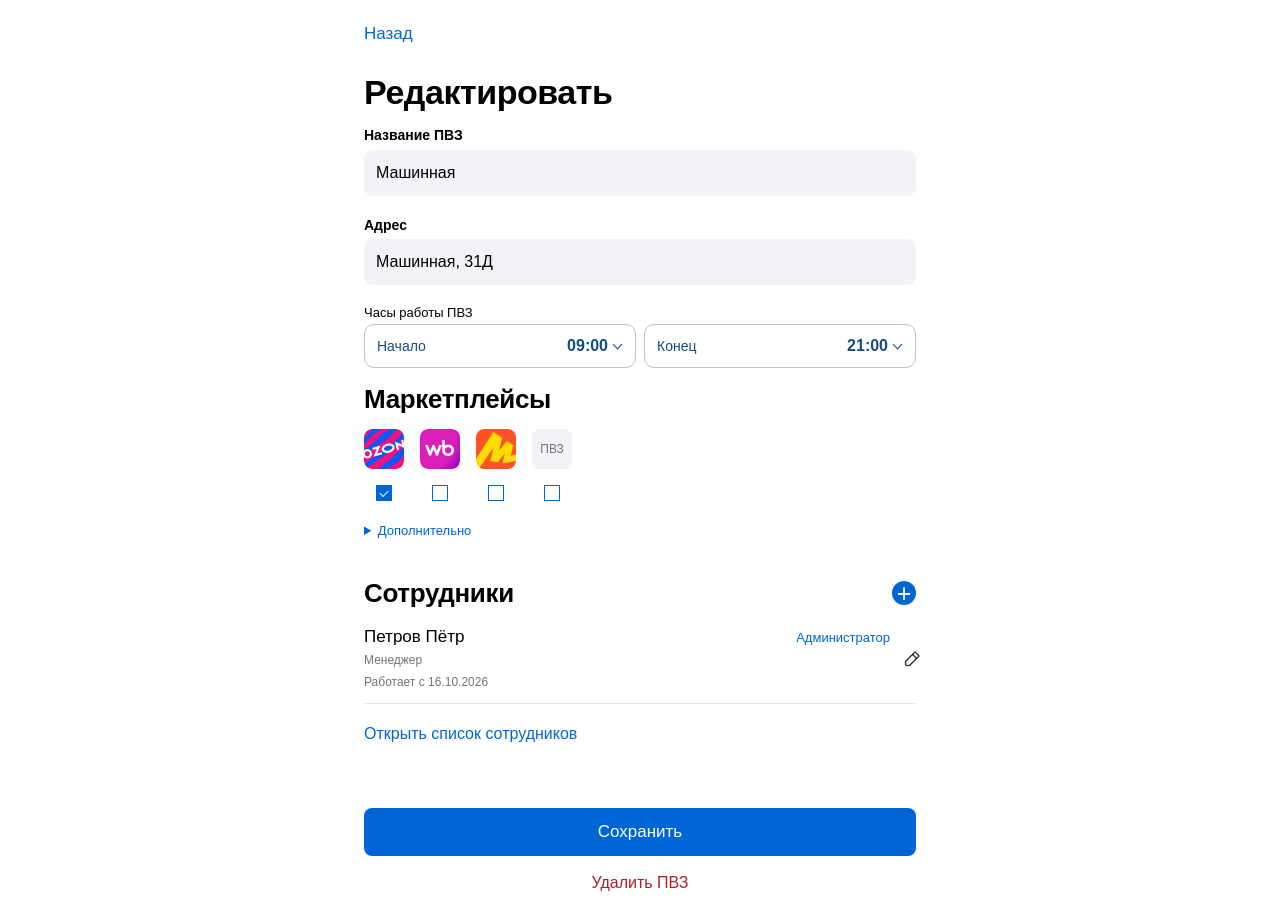
Test: удаление требует подтверждения, отмена и Escape не делают запрос
Check: the field showing "Машинная" is shown, box [364,150,916,196]
Click the button "Удалить ПВЗ": (640, 878) [364,856,916,899]
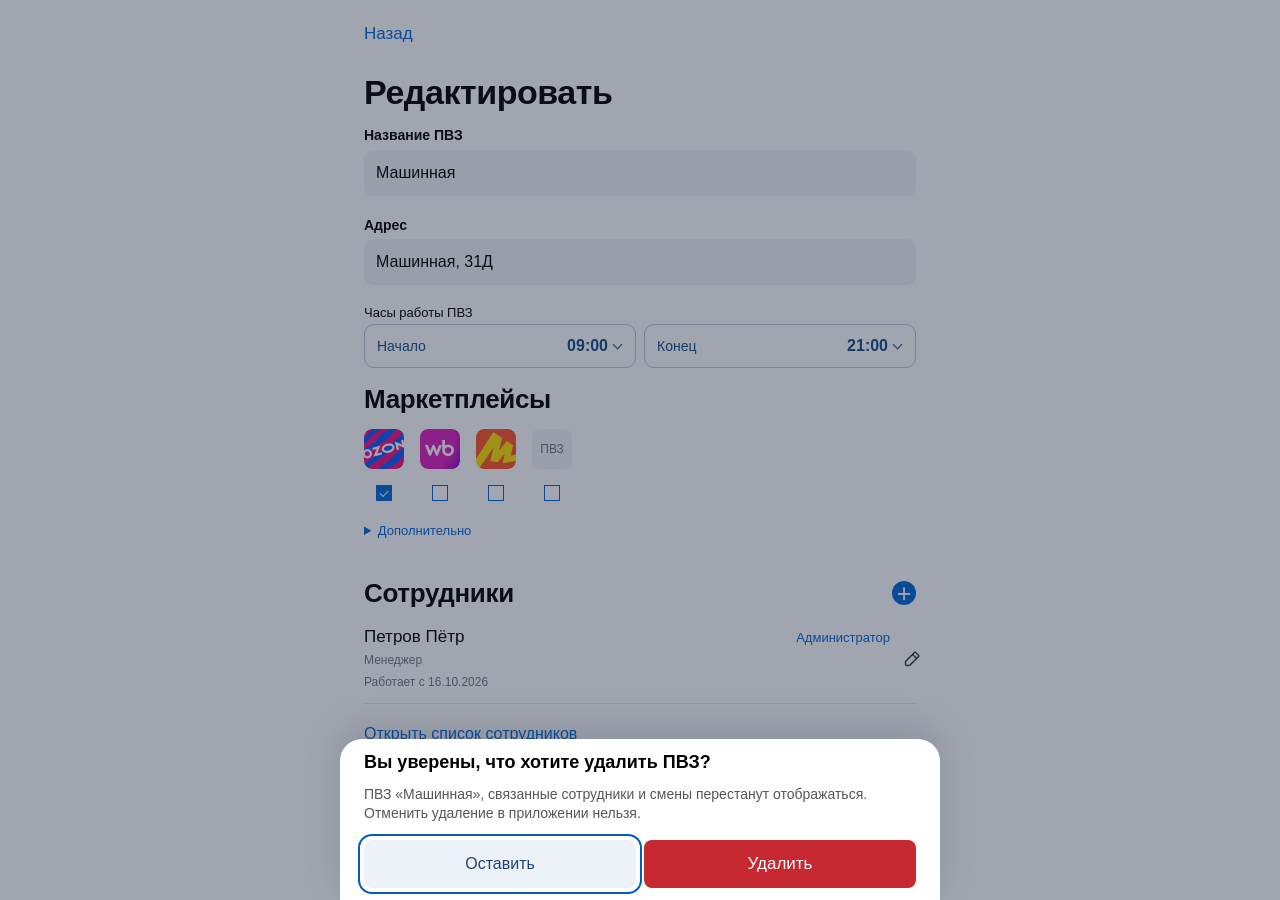
Check: the dialog is shown, box [340,739,940,899]
Click the button "Оставить": (500, 864) [364,840,636,888]
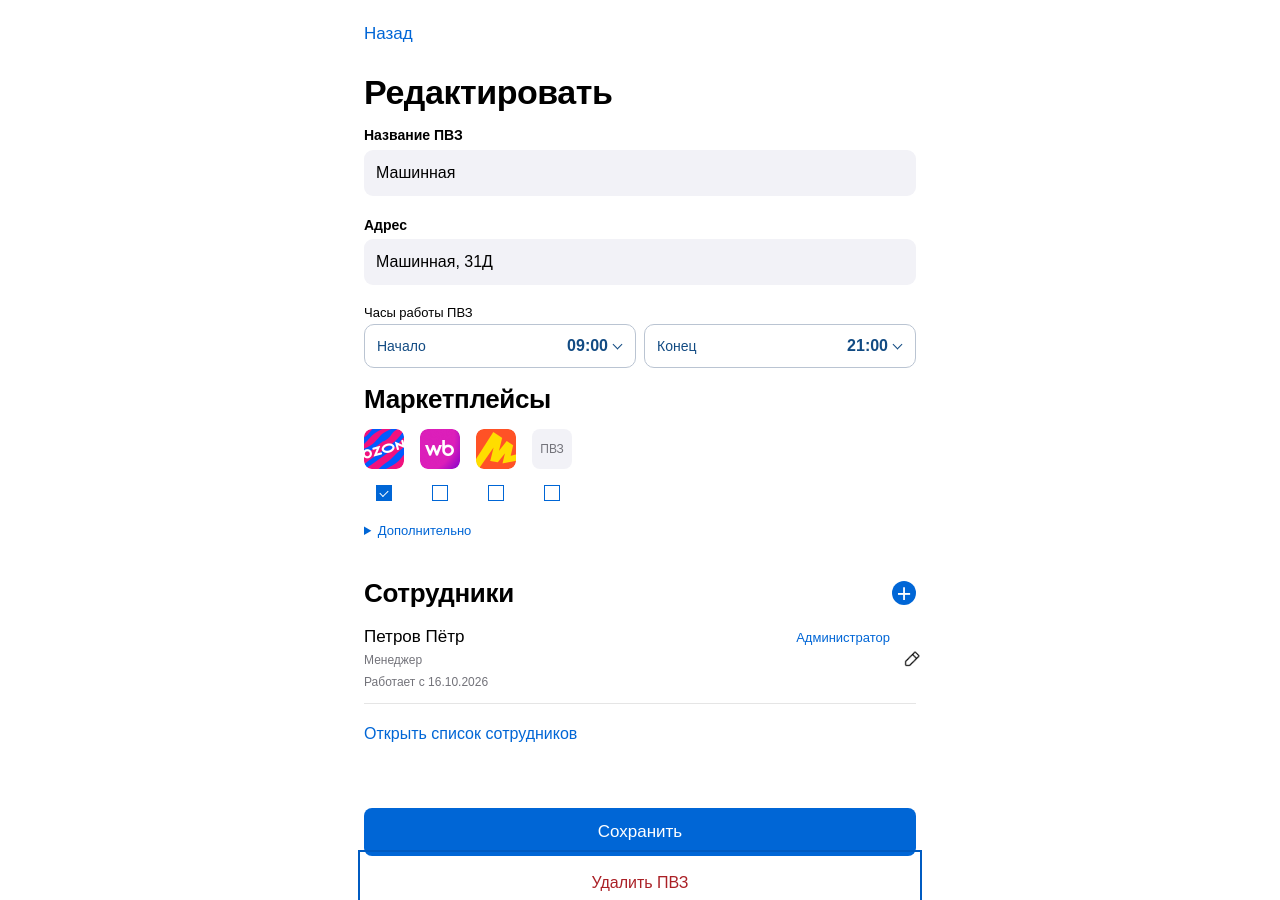
Click the button "Удалить ПВЗ": (640, 878) [364,856,916,899]
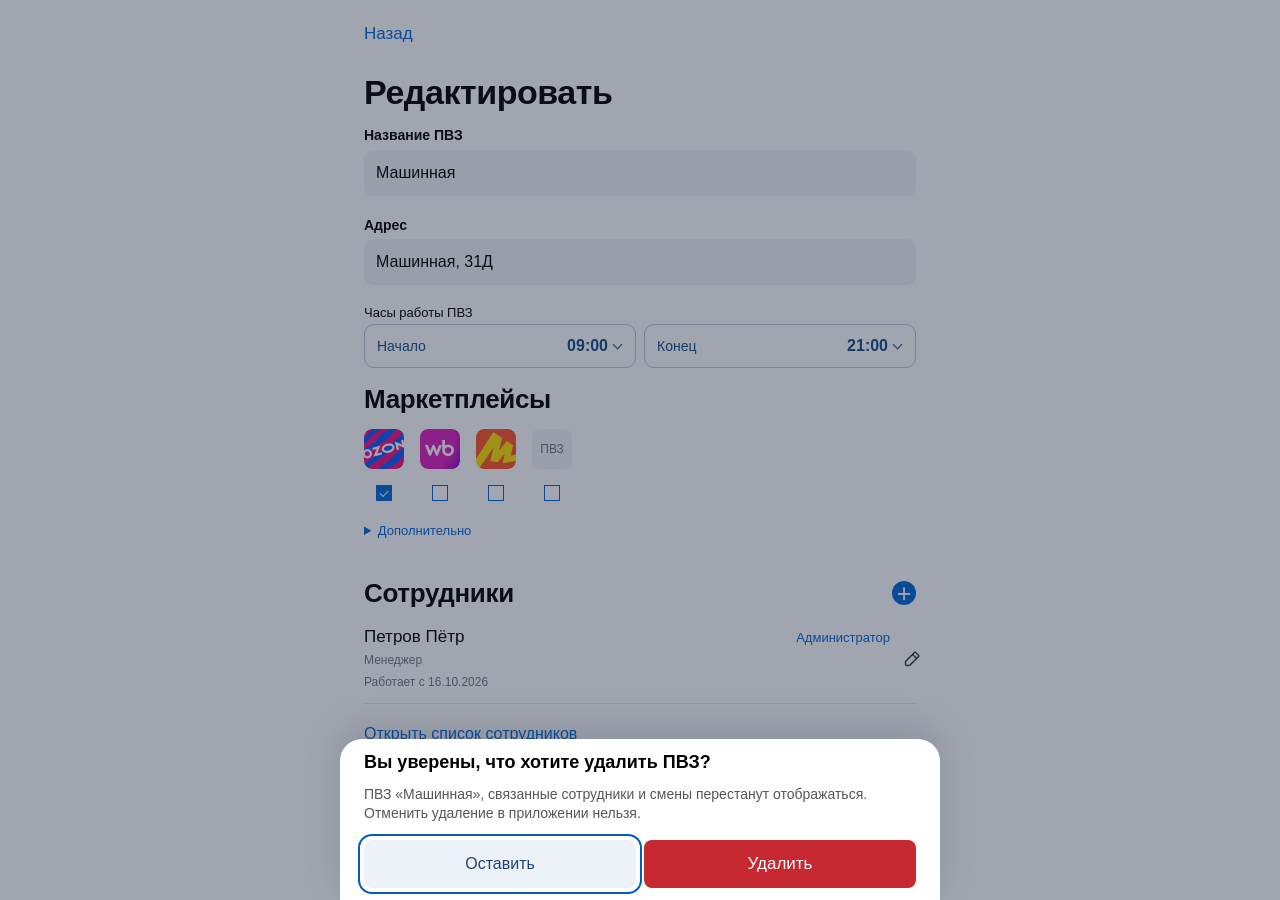
Press Escape
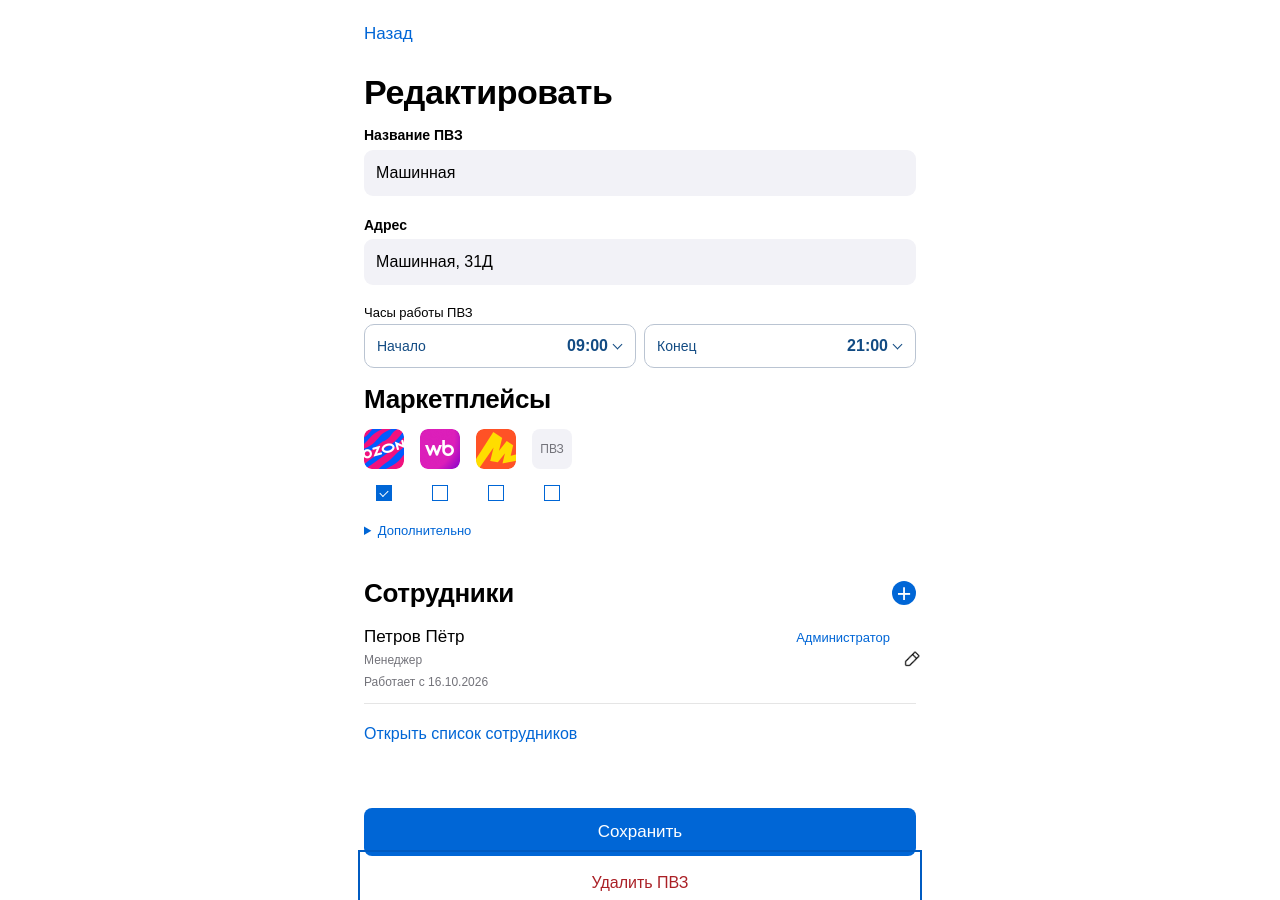
Check: the dialog is gone
Click the button "Удалить ПВЗ": (640, 878) [364,856,916,899]
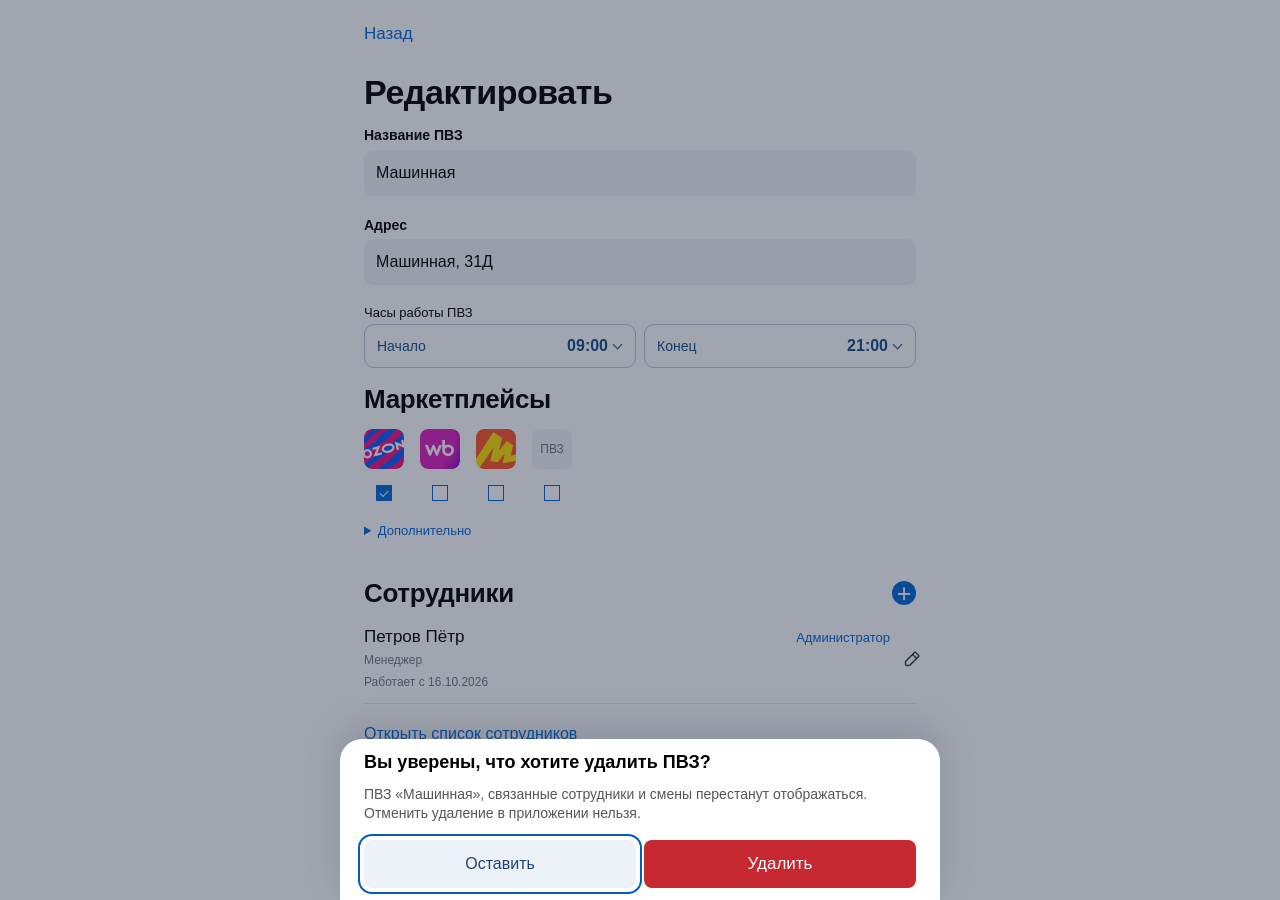
Click the button "Удалить": (780, 864) [644,840,916,888]
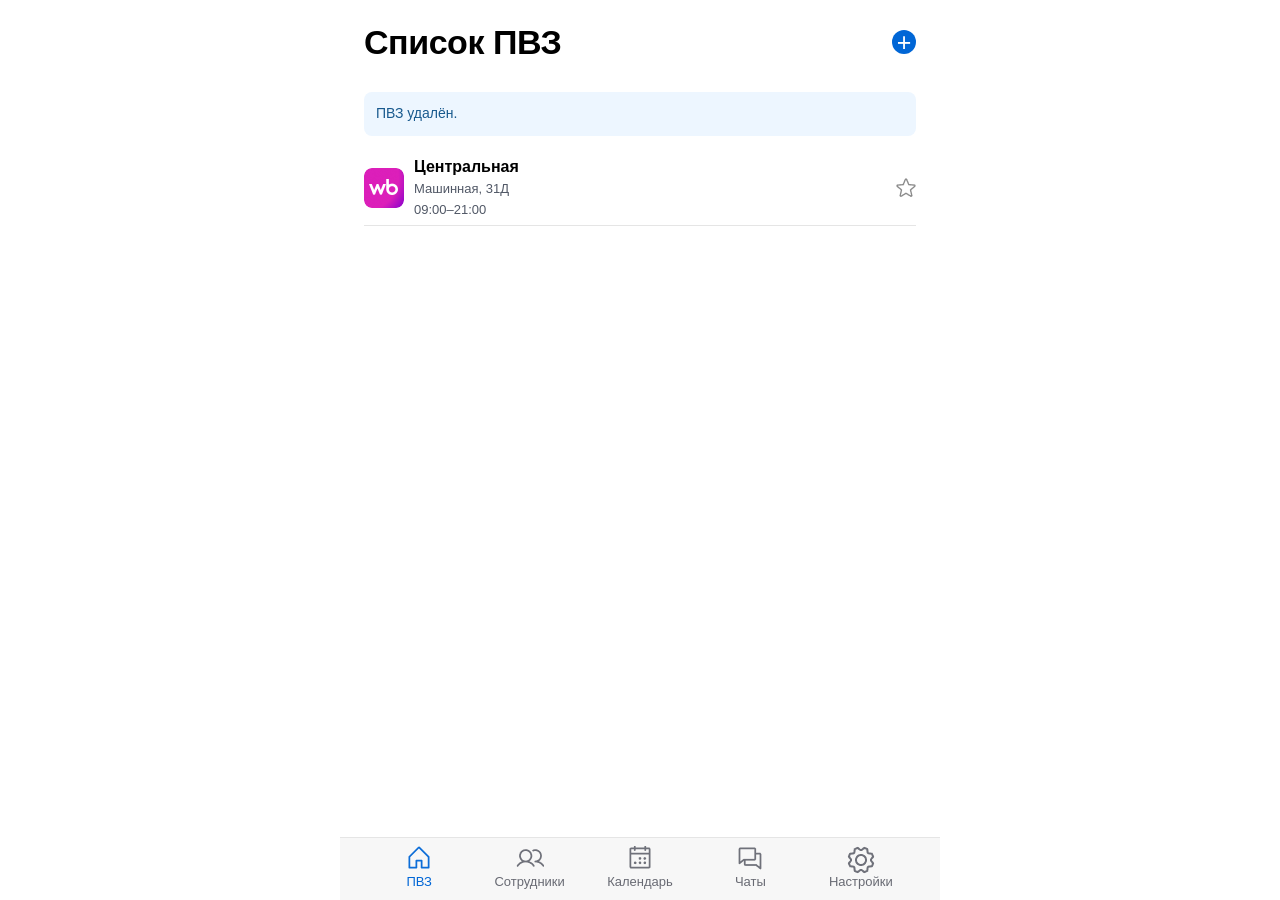
Check: the text "ПВЗ удалён." is shown, box [364,92,916,136]
